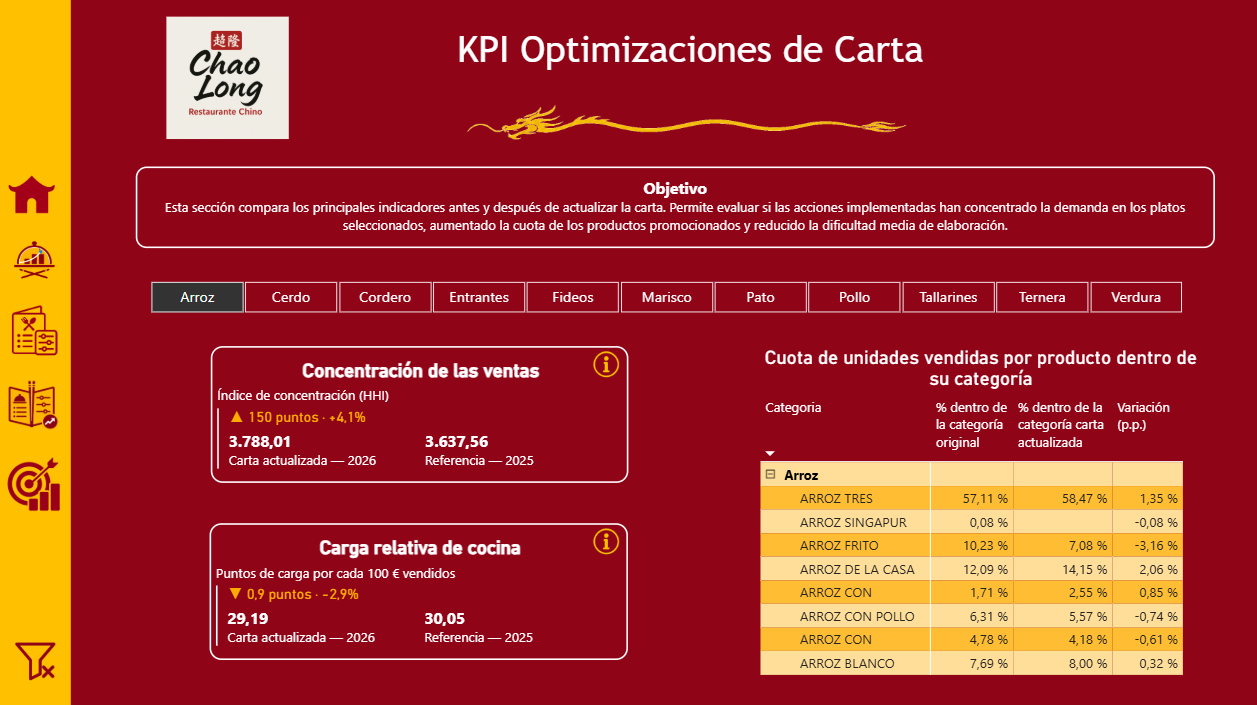

The page's visual inventory and layout, read from the dashboard file:
{"tool":"powerbi","page":{"name":"KPI Optimizacion de Carta","canvas":[1280,720],"ordinal":4},"visuals":[{"type":"textbox","box":[298.8,25,810,72.5],"z":0},{"type":"multiRowCard","title":"Concentración de las ventas","fields":{"Values":["Medida HII.Indicador HHI","Medida HII.HHI - 2026","Medida HII.HHI - 2025"]},"box":[216.1,354.3,424,139.4],"z":0,"group":"g1"},{"type":"shape","box":[0,0,74.3,718.6],"z":1000},{"type":"image","box":[464.6,97.6,470.5,58.1],"z":2000},{"type":"pivotTable","title":"Cuota de unidades vendidas por producto dentro de su categoría","fields":{"Values":["HHI.% Units Sold 2025","HHI.% Units Sold 2026","HHI.Differecnia"],"Rows":["Productos.Categoria","Productos.Producto"]},"box":[770.1,354.3,457.7,349.6],"z":3000},{"type":"slicer","fields":{"Values":["Productos.Categoria"]},"box":[130,281.2,1097.5,45],"z":4000},{"type":"textbox","box":[140,171.4,1097.1,82.9],"z":5000},{"type":"image","box":[0,228.8,73.8,75],"z":6000},{"type":"image","box":[595.9,354.3,44.1,37.2],"z":7000,"group":"g1"},{"type":"image","box":[4.6,377.4,62.5,72.5],"z":7000},{"type":"image","box":[3.3,452.5,65,82.5],"z":8000},{"type":"image","box":[5,170,58.8,58.8],"z":9000},{"type":"image","box":[0,303.6,73.8,71.2],"z":10000},{"type":"image","box":[166.2,10.5,134.6,141.6],"z":11000},{"type":"multiRowCard","title":"Carga relativa de cocina","fields":{"Values":["Medida Carga total.Indicador carga","Medida Carga total.Carga por 100 euros - 2026","Medida Carga total.Carga por 100 euros - 2025"]},"box":[214.9,534.3,425.2,139.4],"z":12000,"group":"g2"},{"type":"image","box":[5.8,642.4,63.9,61.6],"z":12000},{"type":"group","id":"g1","title":"Grupo 2","box":[216.1,354.3,424,139.4],"z":13000},{"type":"group","id":"g2","title":"Grupo 1","box":[214.9,534.3,425.2,139.4],"z":14000},{"type":"image","box":[595.9,534.3,44.1,37.2],"z":14001,"group":"g2"}]}

Visuals, with their boxes in screenshot pixels (x1, y1, x2, y2), scaled from the page's 1280x720 canvas onto the 1257x705 screenshot:
textbox: 293:24:1089:95
"Concentración de las ventas" multiRowCard: 212:347:629:483
shape: 0:0:73:704
image: 456:96:918:152
"Cuota de unidades vendidas por producto dentro de su categoría" pivotTable: 756:347:1206:689
slicer - Productos.Categoria: 128:275:1205:319
textbox: 137:168:1215:249
image: 0:224:72:297
image: 585:347:628:383
image: 5:370:66:441
image: 3:443:67:524
image: 5:166:63:224
image: 0:297:72:367
image: 163:10:295:149
"Carga relativa de cocina" multiRowCard: 211:523:629:660
image: 6:629:68:689
"Grupo 2" group: 212:347:629:483
"Grupo 1" group: 211:523:629:660
image: 585:523:628:560
